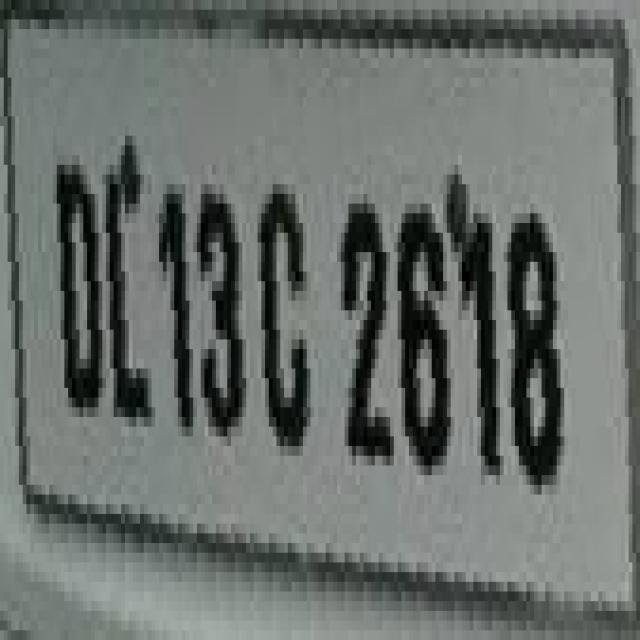license_plate: (15, 20, 640, 572)
